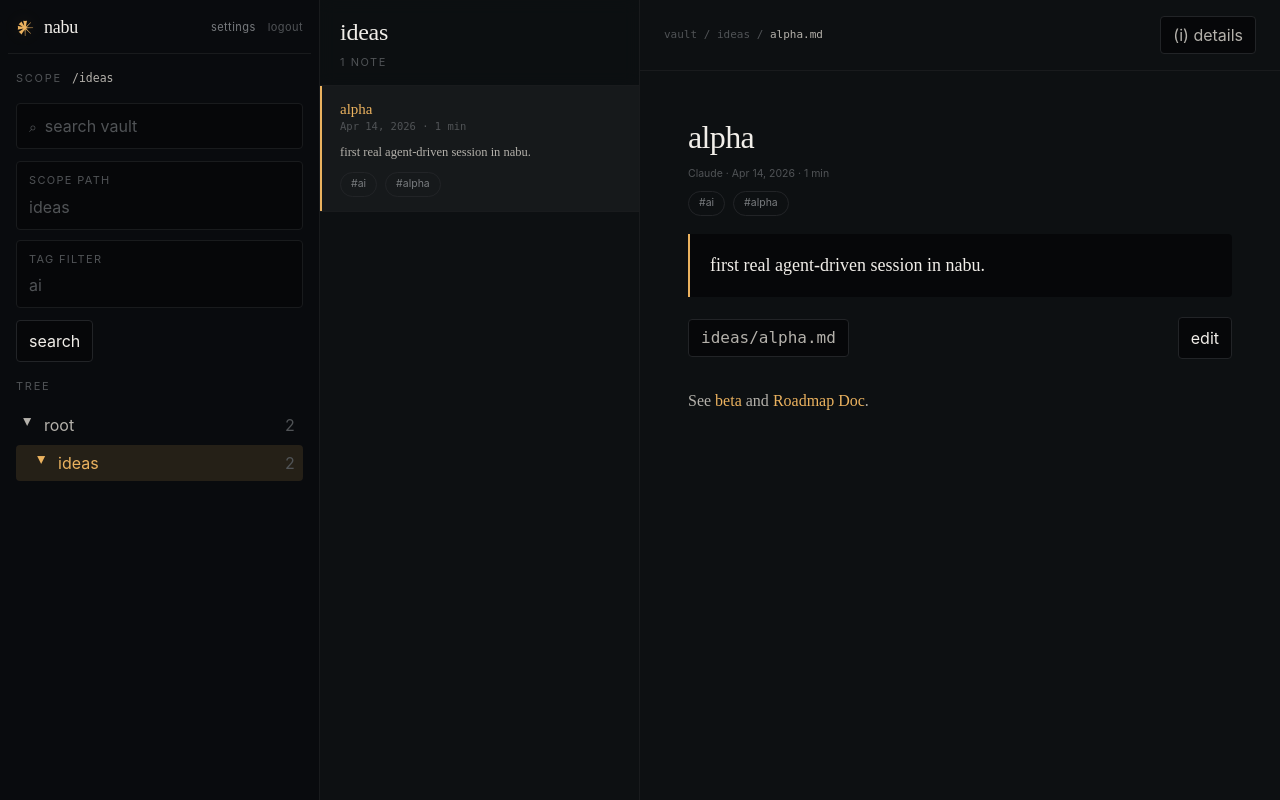
Scenario: HomePage › reveals note details, metadata, backlinks, outgoing links, and related notes in the details drawer
Click the button "(i) details" at (1208, 35), box [1160, 16, 1256, 54]
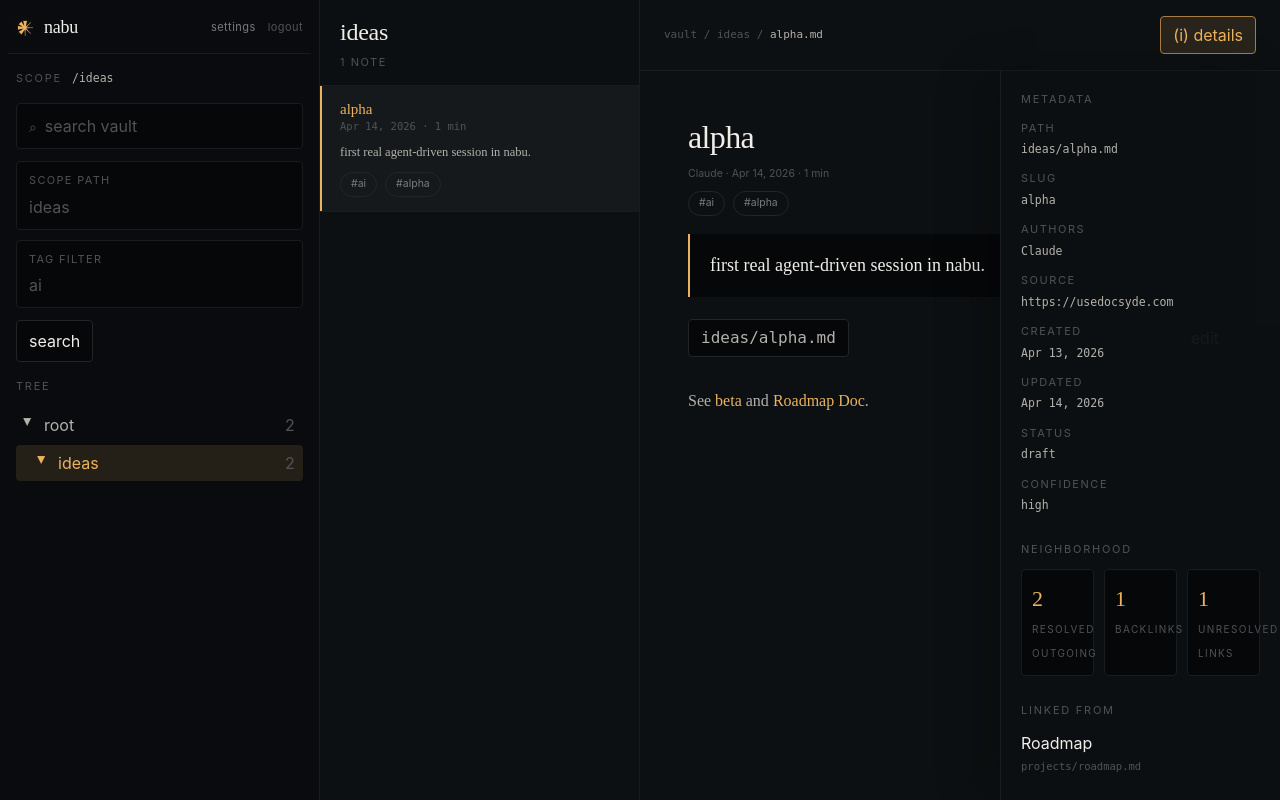
Expected: the text "metadata" is shown, [1021, 92, 1093, 106]
Expected: the text "Claude" is shown, [1021, 244, 1062, 258]
Expected: the text "https://usedocsyde.com" is shown, [1021, 295, 1173, 309]
